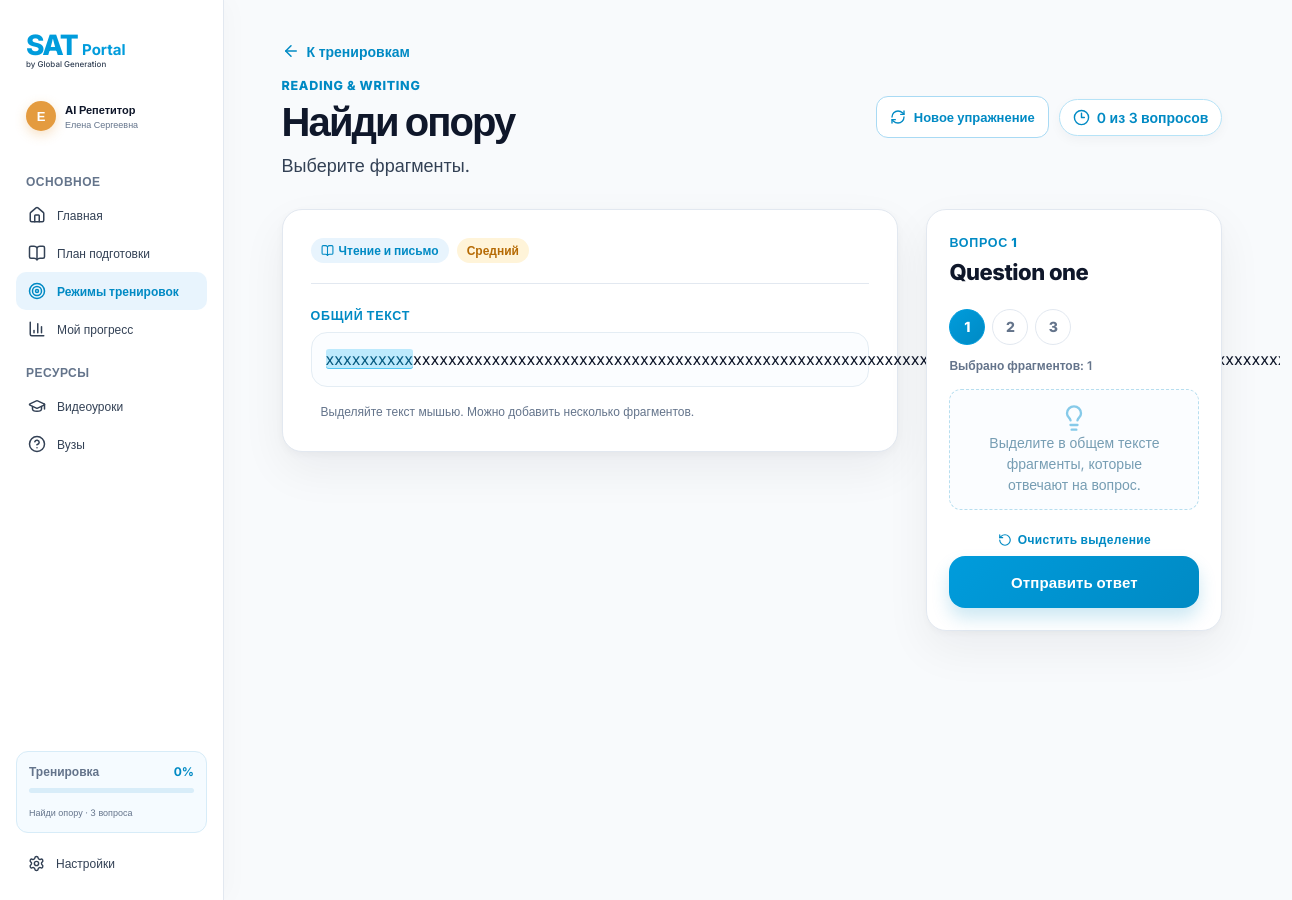
Test case: App › grades generated answers locally
Expected: the heading "Найди опору" is shown, [282,97,514,146]
Click the button "Отправить ответ". click: (1074,582)
box: [949,556,1199,608]
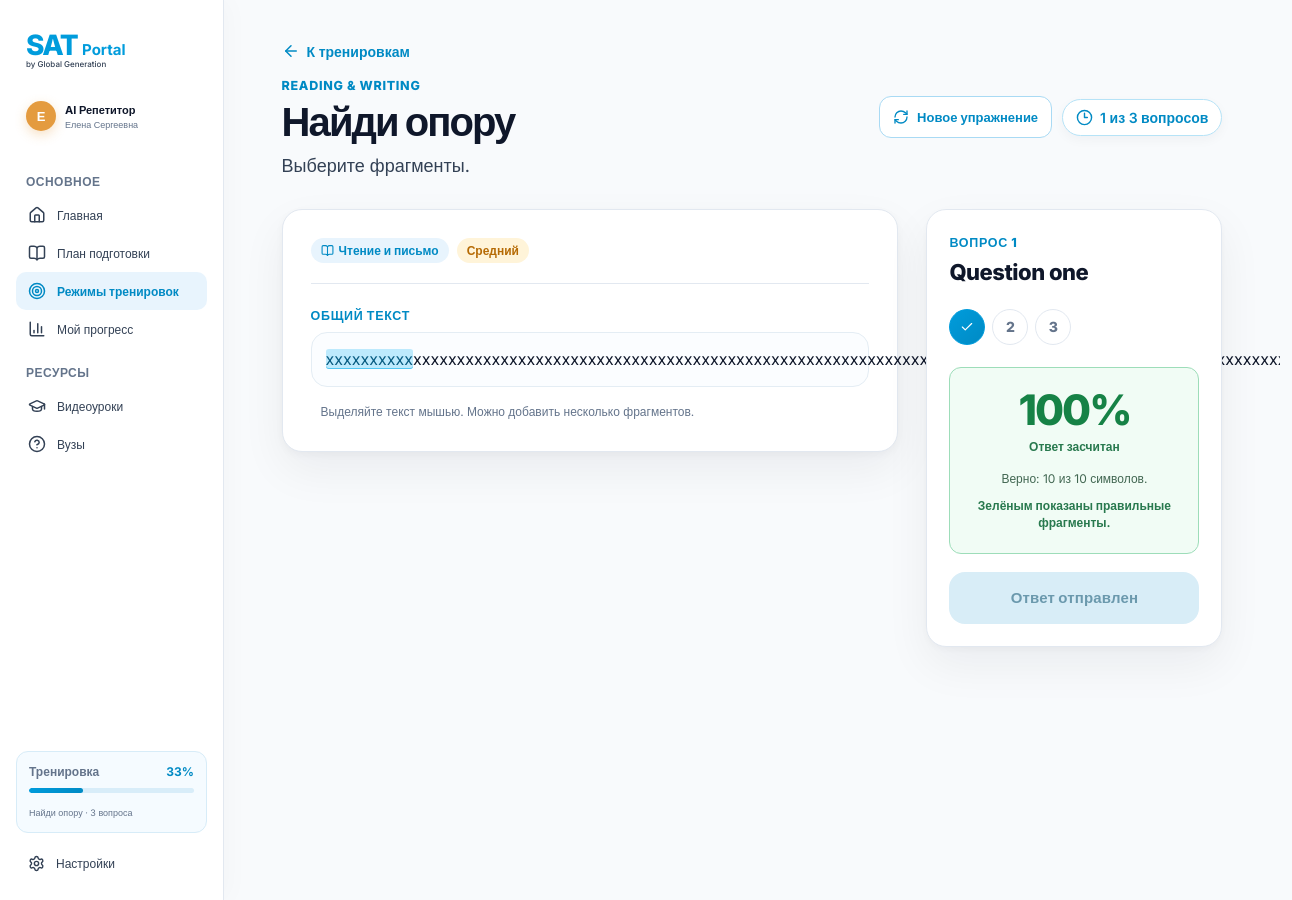
Now the text "Ответ засчитан" is shown, box [1029,439,1120,454]
